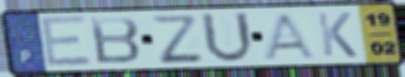A: (260, 11, 320, 61)
B: (87, 15, 143, 65)
E: (37, 15, 95, 70)
K: (314, 11, 360, 59)
U: (198, 11, 257, 65)
Z: (148, 14, 207, 66)
